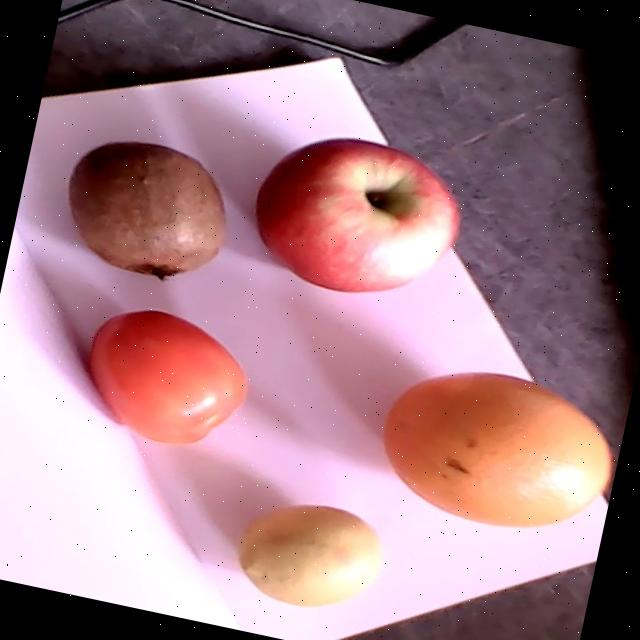apple: (254, 137, 459, 291)
kiwi: (67, 141, 225, 282)
lemon: (239, 505, 378, 607)
orange: (382, 372, 610, 527)
tomato: (86, 309, 246, 444)
